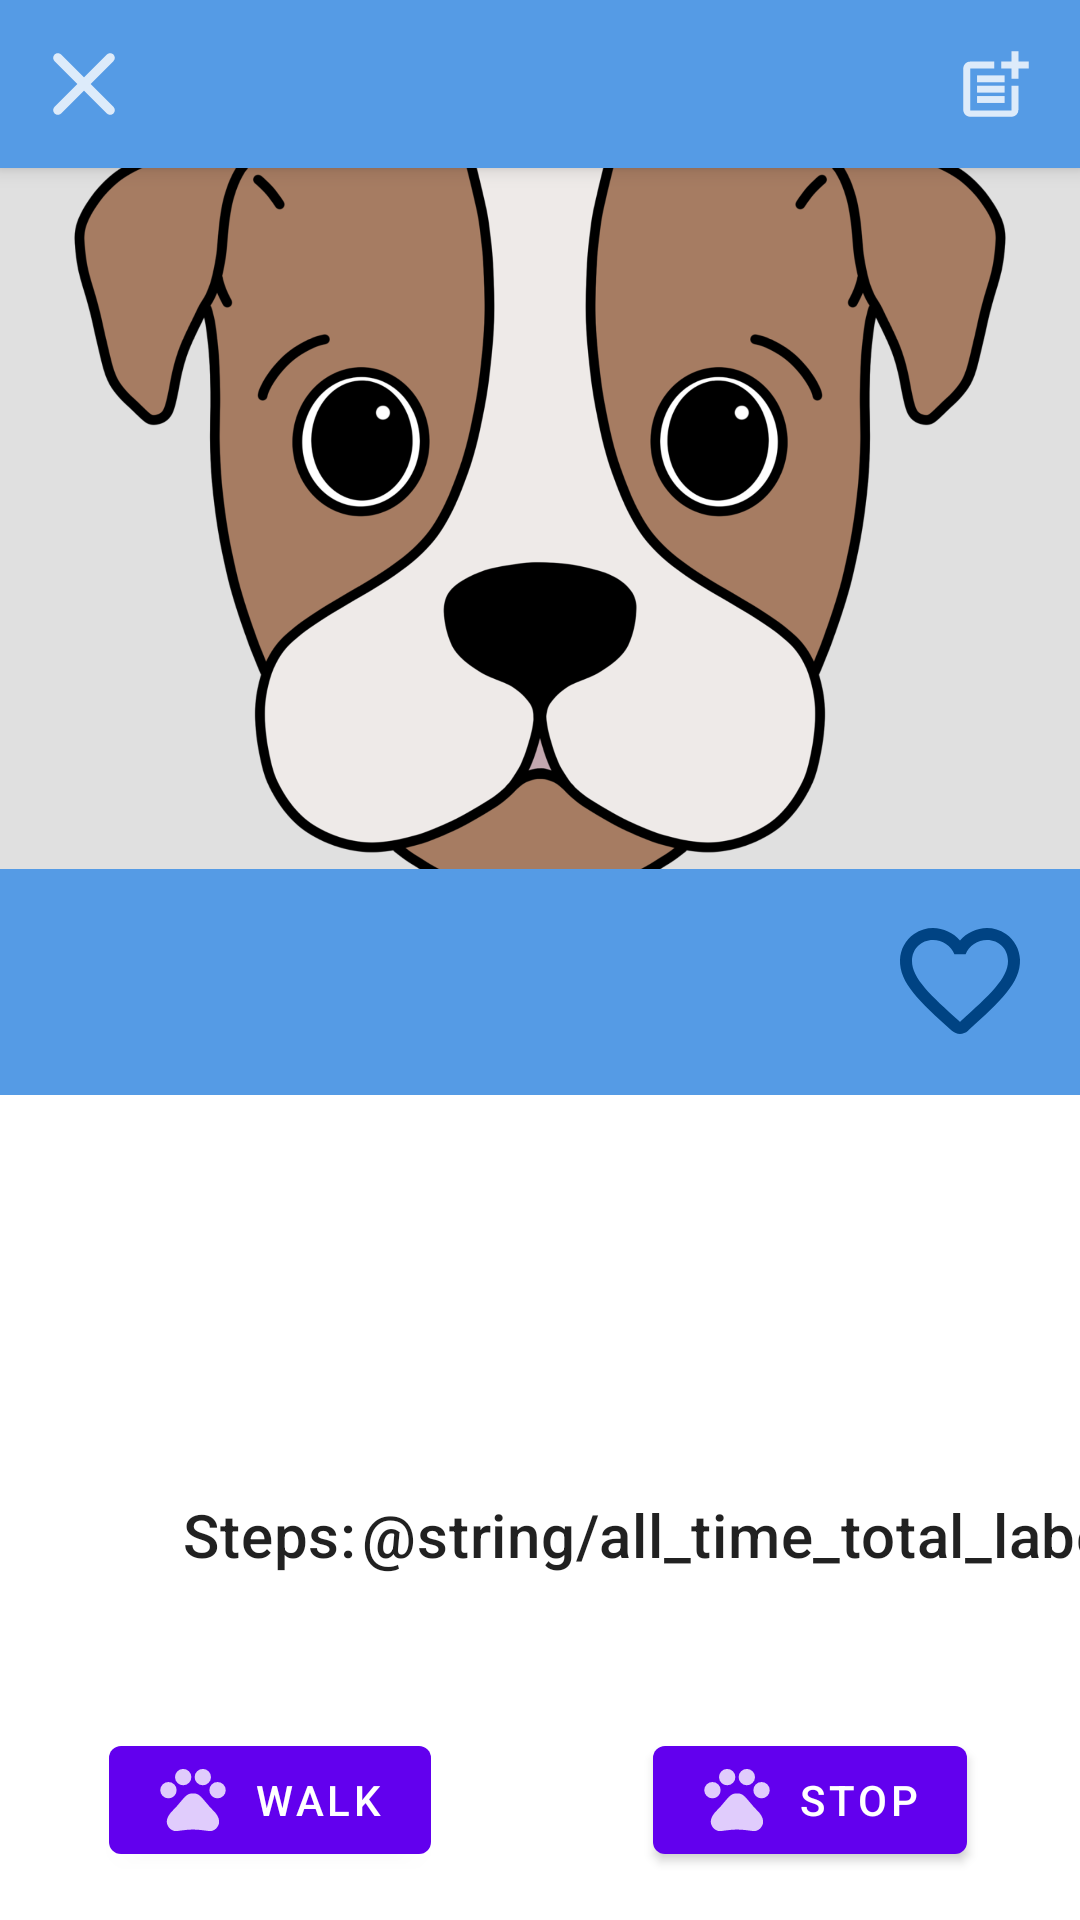

Screen size 1080×1920. Icon name, then its center in pixels as (x=x, y=y):
add to widgets: (x=996, y=84)
favorite: (x=960, y=981)
